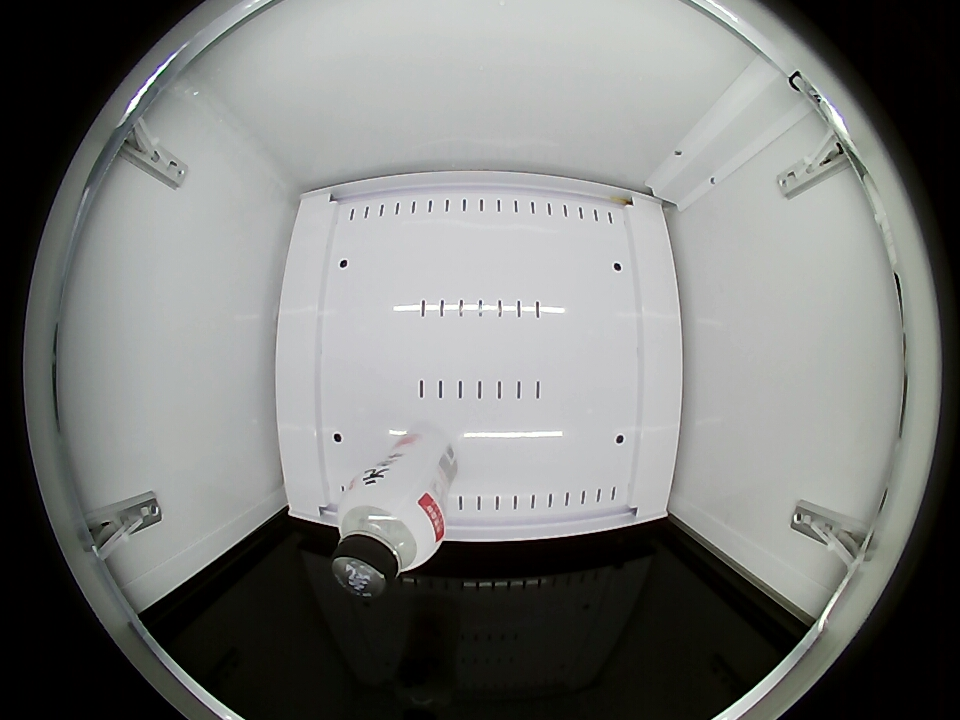yuanqishui: (331, 475, 444, 599)
